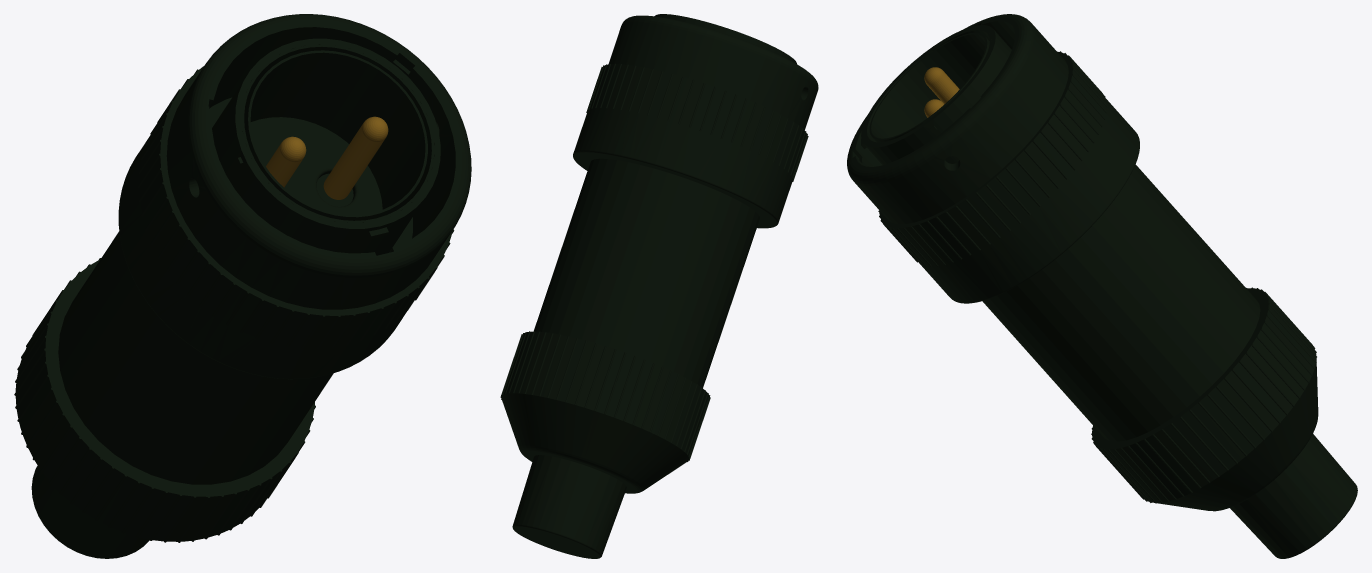
Rendered from Power Supply to Docking Station Cable Male Port.fbx.
The picture shows the model from 3 angles, left to right: view 1: azimuth 30°, elevation 25°; view 2: azimuth 150°, elevation 25°; view 3: azimuth 270°, elevation 25°; orthographic projection. The views are drawn at different scales.
Visible parts, largest first — view 1: Shape_IndexedFaceSet.001, Shape_IndexedFaceSet, Shape_IndexedFaceSet.004, Shape_IndexedFaceSet.003, Shape_IndexedFaceSet.002; view 2: Shape_IndexedFaceSet, Shape_IndexedFaceSet.001; view 3: Shape_IndexedFaceSet, Shape_IndexedFaceSet.001, Shape_IndexedFaceSet.004, Shape_IndexedFaceSet.002.
Part boxes in pixels (<box>): Shape_IndexedFaceSet.001: <box>118,14,471,379</box>; Shape_IndexedFaceSet: <box>14,231,333,558</box>; Shape_IndexedFaceSet.004: <box>241,44,434,222</box>; Shape_IndexedFaceSet.003: <box>323,116,388,199</box>; Shape_IndexedFaceSet.002: <box>266,136,306,187</box>; Shape_IndexedFaceSet: <box>500,158,759,558</box>; Shape_IndexedFaceSet.001: <box>573,14,818,228</box>; Shape_IndexedFaceSet: <box>982,164,1357,558</box>; Shape_IndexedFaceSet.001: <box>847,14,1139,303</box>; Shape_IndexedFaceSet.004: <box>865,29,991,143</box>; Shape_IndexedFaceSet.002: <box>924,67,959,103</box>.
Bounding box in the file's own units: 2.32 × 5.31 × 4.72.
